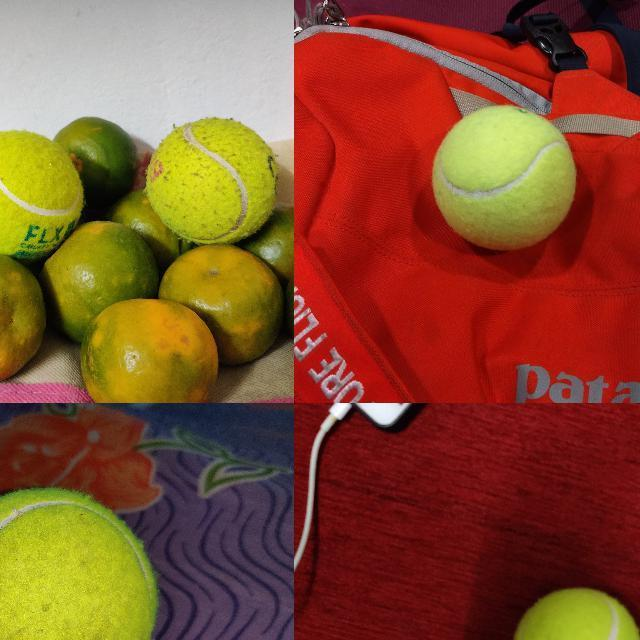tennis-ball: (0, 486, 158, 639), (431, 104, 577, 252), (145, 116, 279, 243), (0, 129, 58, 250), (511, 586, 639, 639)
